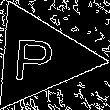P_N: (17, 31, 62, 83)
